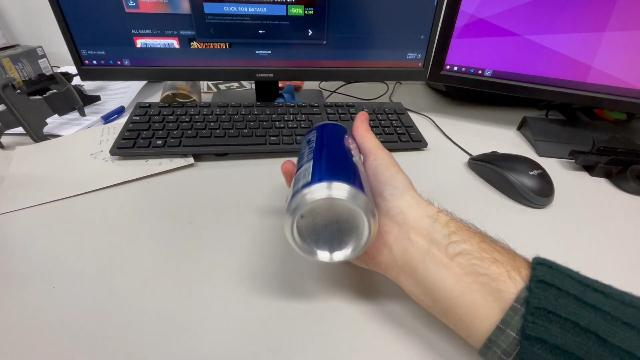Pepsi: (280, 118, 382, 268)
